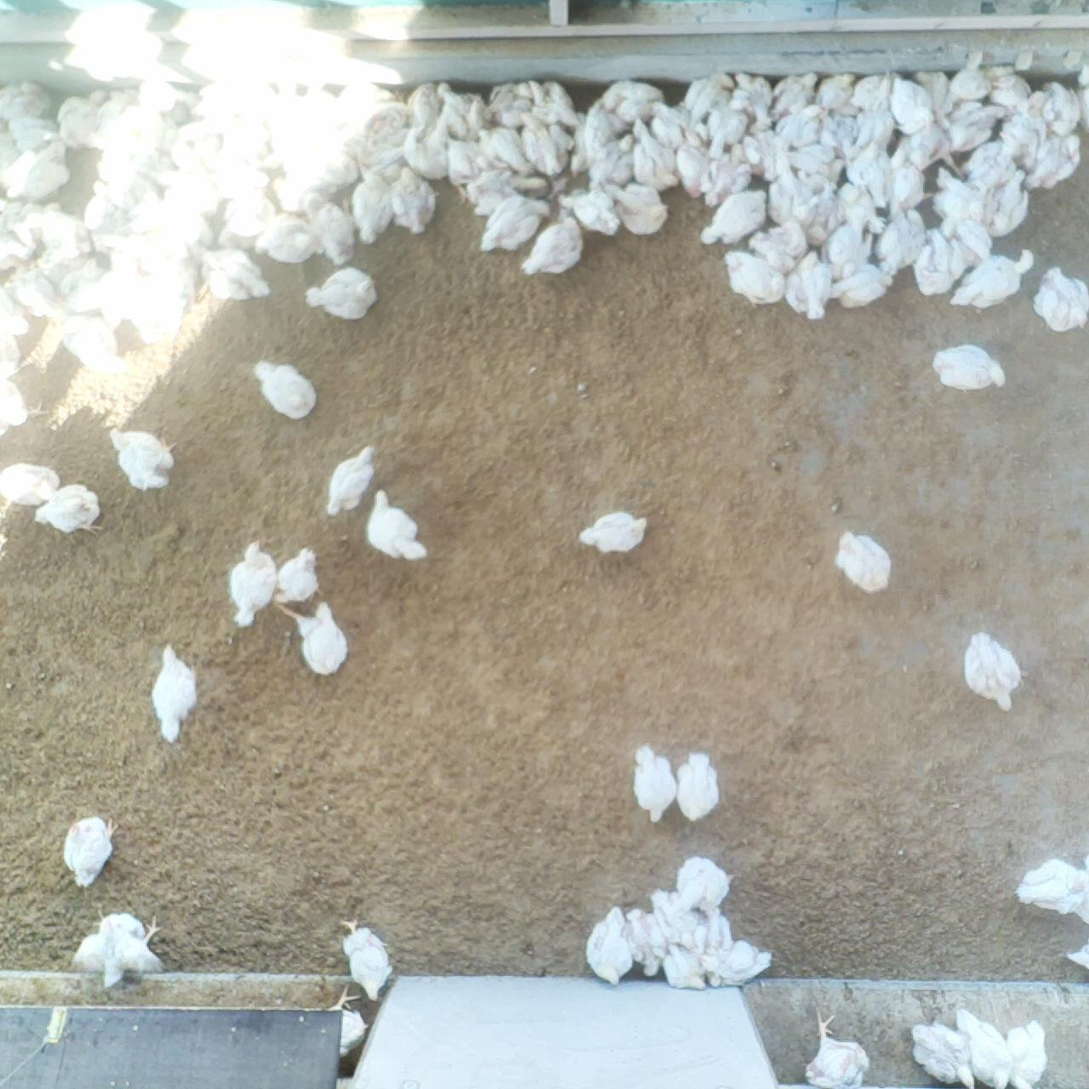chicken: (795, 1012, 869, 1088), (66, 916, 160, 974), (101, 425, 175, 490), (1022, 852, 1086, 927), (951, 248, 1027, 311), (225, 539, 277, 629), (963, 633, 1022, 712), (367, 488, 428, 562), (910, 1018, 973, 1089), (954, 1007, 1006, 1089), (336, 914, 388, 994), (704, 184, 771, 243), (481, 194, 548, 253), (305, 267, 384, 317), (573, 508, 651, 558), (721, 251, 786, 311), (38, 482, 106, 539), (1033, 265, 1086, 338), (301, 195, 359, 261), (157, 645, 196, 743), (280, 154, 348, 210), (522, 219, 584, 280), (61, 318, 130, 371), (295, 601, 345, 673), (96, 240, 148, 309), (936, 343, 1006, 394), (66, 814, 114, 887), (631, 745, 676, 821), (834, 528, 890, 589), (254, 360, 317, 414), (1028, 128, 1082, 191), (392, 166, 436, 243), (768, 141, 809, 223), (154, 167, 225, 214), (345, 83, 406, 137), (584, 908, 629, 980), (927, 205, 987, 259), (949, 100, 1009, 154), (903, 119, 961, 174), (300, 126, 354, 185), (650, 891, 701, 953), (706, 145, 757, 207), (989, 173, 1035, 241), (583, 134, 636, 193), (326, 442, 372, 509), (431, 77, 485, 134), (60, 87, 112, 146), (55, 267, 123, 312), (5, 146, 66, 196), (632, 121, 677, 188), (623, 908, 667, 976), (202, 253, 267, 299), (841, 67, 900, 117), (132, 201, 206, 240), (791, 251, 832, 321), (965, 137, 1020, 189), (705, 943, 774, 984), (129, 281, 181, 335), (3, 456, 60, 505), (800, 183, 846, 243), (120, 78, 181, 123), (820, 225, 876, 274), (1033, 77, 1079, 136), (711, 89, 757, 148), (768, 106, 820, 158), (678, 858, 731, 909), (259, 214, 312, 265), (562, 192, 621, 237), (891, 75, 935, 135), (731, 69, 775, 128), (615, 184, 665, 235), (484, 77, 535, 127), (438, 137, 486, 190), (522, 116, 569, 170), (836, 262, 892, 307), (883, 212, 917, 286), (650, 946, 711, 987), (677, 136, 718, 197), (841, 145, 891, 195), (527, 81, 579, 129), (598, 81, 657, 122), (921, 228, 957, 295), (354, 131, 410, 174), (360, 172, 392, 247), (838, 112, 899, 151), (837, 186, 887, 233), (94, 155, 128, 223), (753, 224, 806, 267), (812, 71, 862, 116), (472, 128, 528, 168), (681, 755, 718, 815), (390, 87, 444, 128), (275, 549, 321, 597), (332, 983, 365, 1049), (201, 162, 269, 194), (932, 173, 977, 221), (647, 95, 695, 140), (3, 383, 48, 431), (686, 76, 735, 120), (407, 125, 447, 178), (301, 86, 351, 128), (824, 110, 862, 165), (1012, 1020, 1046, 1081), (776, 74, 824, 117), (103, 123, 144, 173), (888, 151, 923, 209), (44, 208, 82, 261), (4, 114, 62, 148), (14, 273, 57, 318), (1, 81, 54, 117), (470, 169, 510, 216), (1003, 105, 1046, 148), (179, 119, 223, 161), (993, 66, 1031, 113), (221, 128, 269, 165), (225, 197, 270, 236), (950, 63, 991, 105), (234, 83, 282, 117), (140, 244, 197, 271), (1, 289, 34, 335), (584, 99, 615, 147), (191, 86, 229, 122), (5, 206, 34, 251), (1, 220, 30, 263), (2, 318, 20, 379), (1064, 938, 1089, 972)
